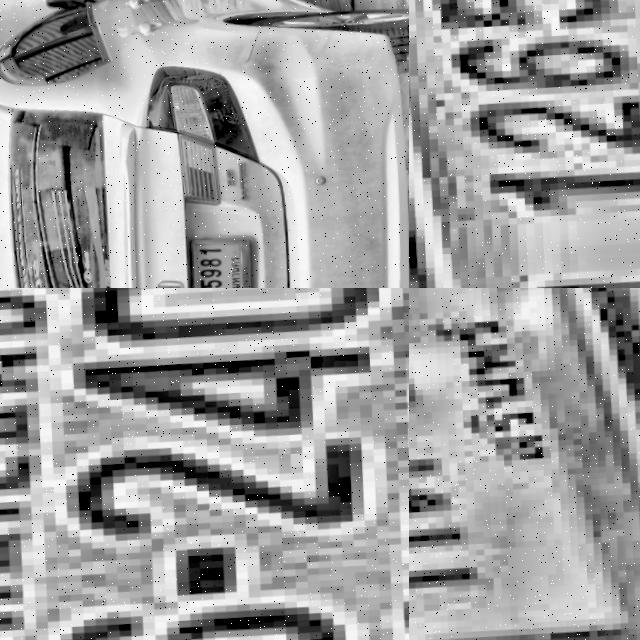license-plate: (0, 288, 409, 640), (409, 288, 640, 640), (409, 0, 640, 288), (176, 237, 255, 288)
